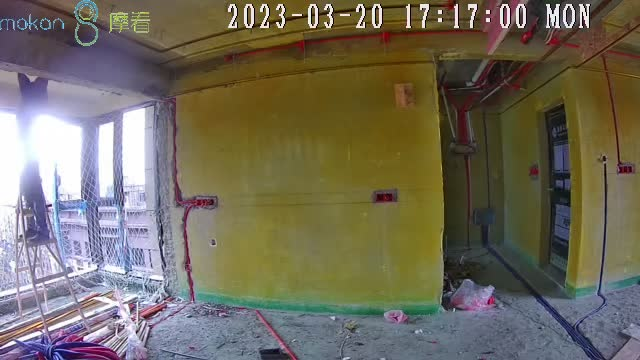people: (17, 81, 53, 247)
window: (1, 107, 171, 299)
